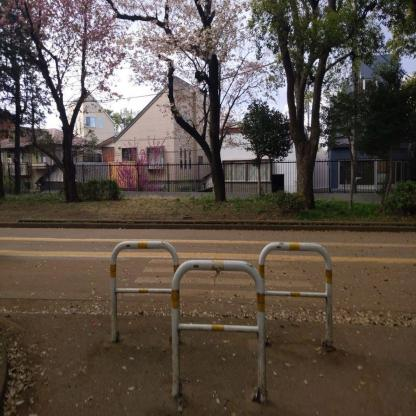Someiyoshino: (0, 0, 299, 136)
